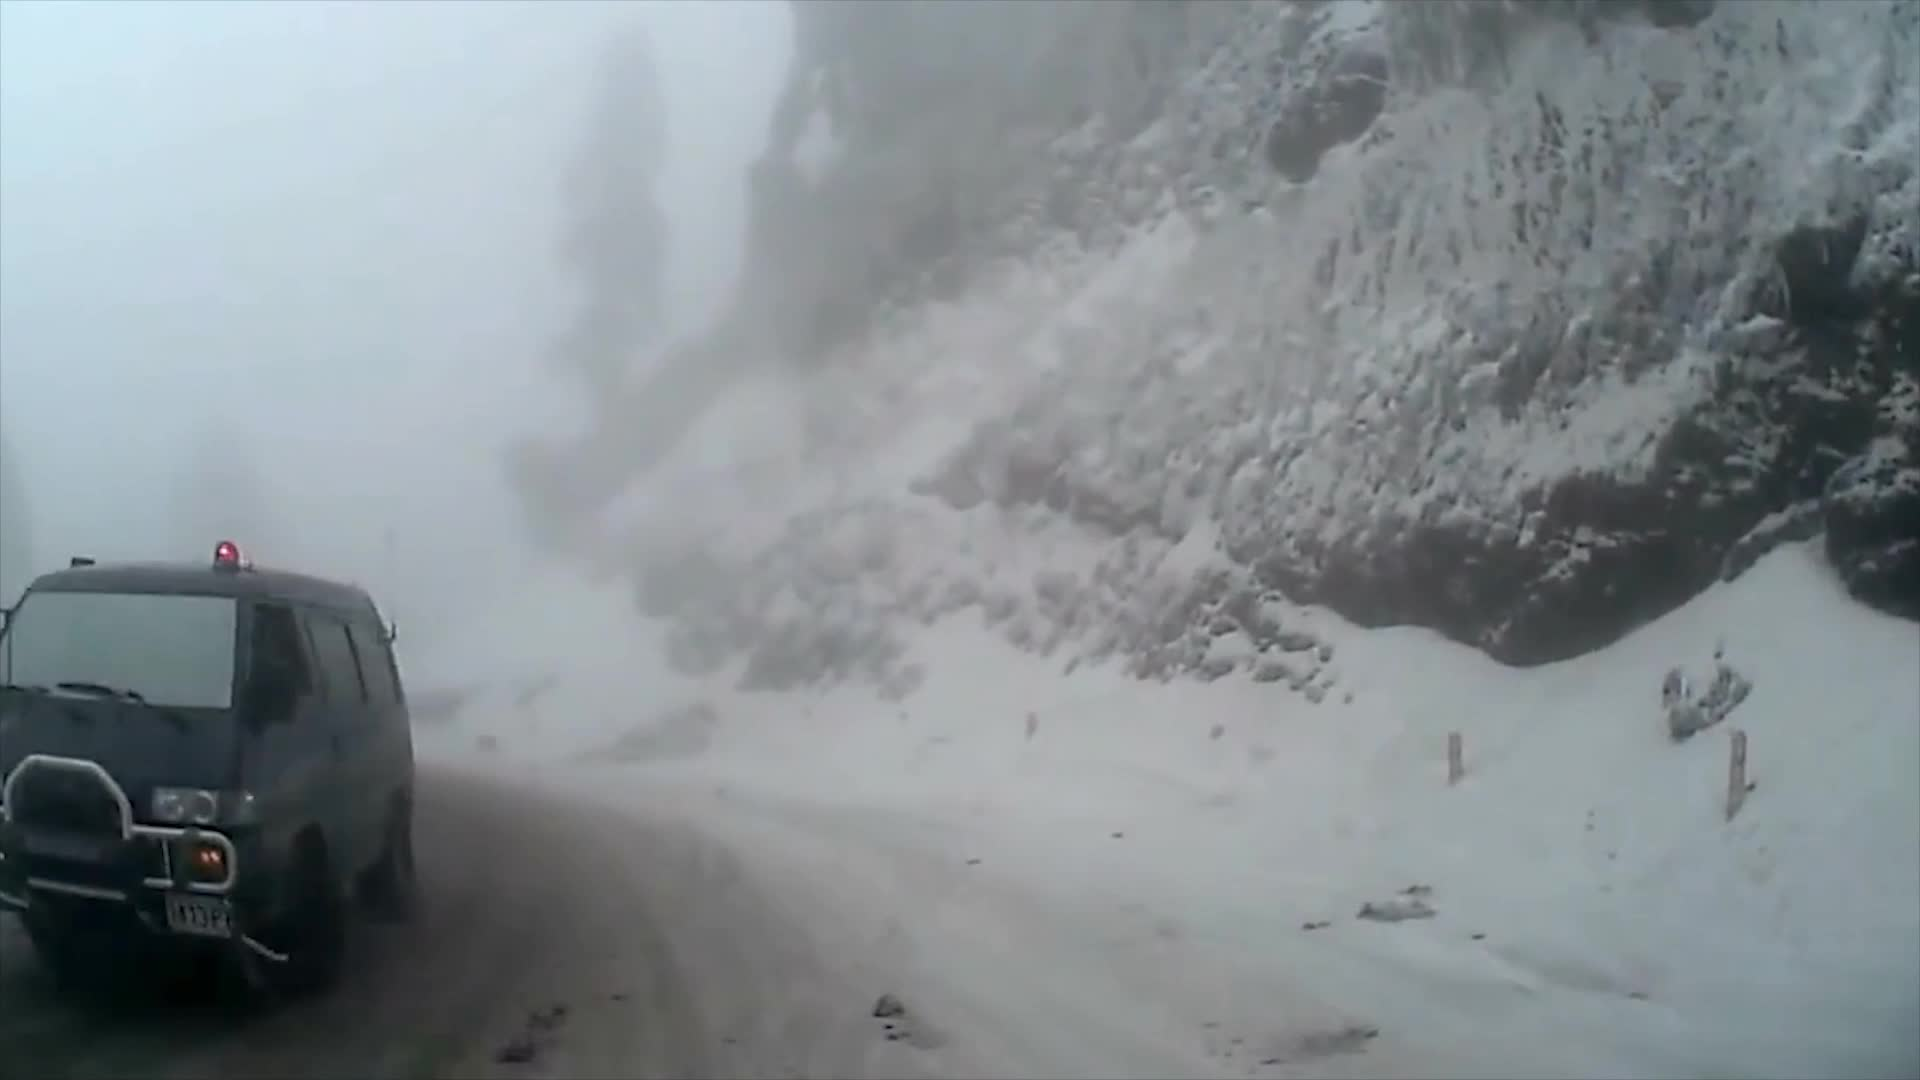vehicle: (0, 541, 417, 1006)
